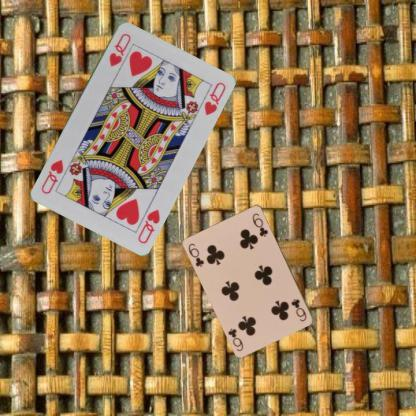6c: (186, 241, 206, 268), (289, 296, 308, 323)
Qh: (106, 30, 132, 68), (135, 206, 161, 244)
